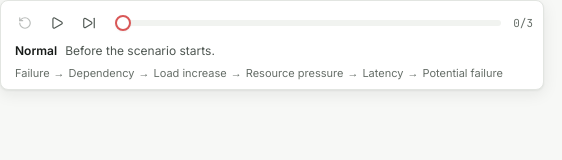
Test: SimulationPlayback › plays one step per tick, pauses, and stops at the end
Click the button named "Play" at {"x": 57, "y": 23}, box [43,9,71,37]
Wait 1400 ms
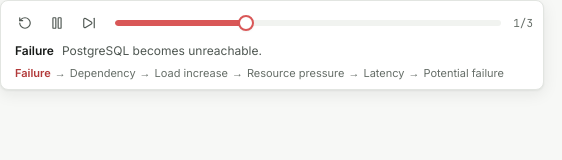
Check: the message reads "Failure", box [15,43,54,58]
Click the button named "Pause" at {"x": 57, "y": 23}, box [43,9,71,37]
Wait 4200 ms
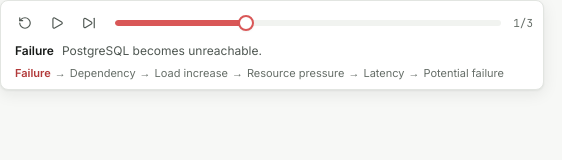
Check: the message reads "Failure", box [15,43,54,58]
Click the button named "Play" at {"x": 57, "y": 23}, box [43,9,71,37]
Wait 7000 ms
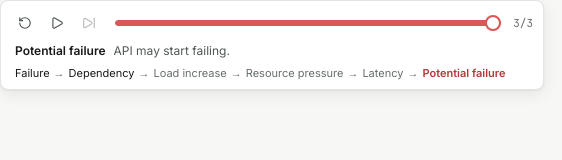
Check: the button named "Play" is shown, box [43,9,71,37]
Check: the message reads "Potential failure", box [15,43,106,58]
